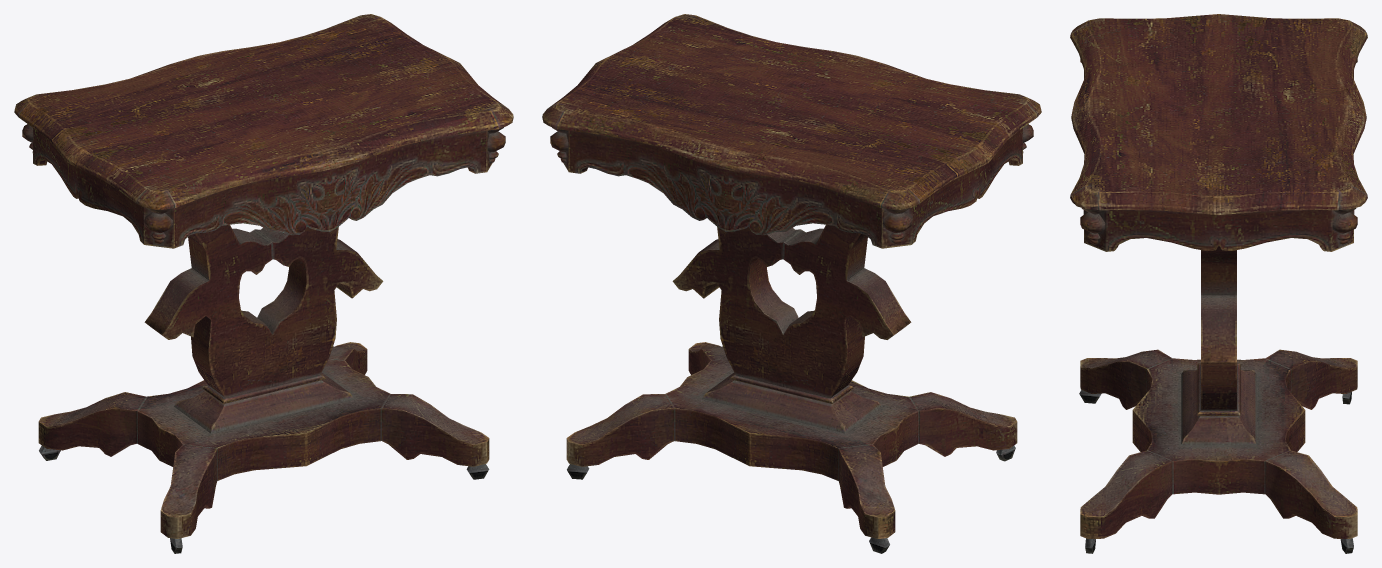
File: Table.fbx
3 renders of one model, left to right at view 1: azimuth 30°, elevation 25°; view 2: azimuth 150°, elevation 25°; view 3: azimuth 270°, elevation 25°, orthographic.
Visible parts, largest first — view 1: LODGroup_1_MainMesh_1_SubMesh_1; view 2: LODGroup_1_MainMesh_1_SubMesh_1; view 3: LODGroup_1_MainMesh_1_SubMesh_1.
Boxes of the visible parts, x1,y1,x2,y2 form: LODGroup_1_MainMesh_1_SubMesh_1: (14, 14, 513, 553); LODGroup_1_MainMesh_1_SubMesh_1: (542, 14, 1041, 553); LODGroup_1_MainMesh_1_SubMesh_1: (1070, 14, 1367, 553).
Bounding box in the file's own units: 94.44 × 83.87 × 60.99.
